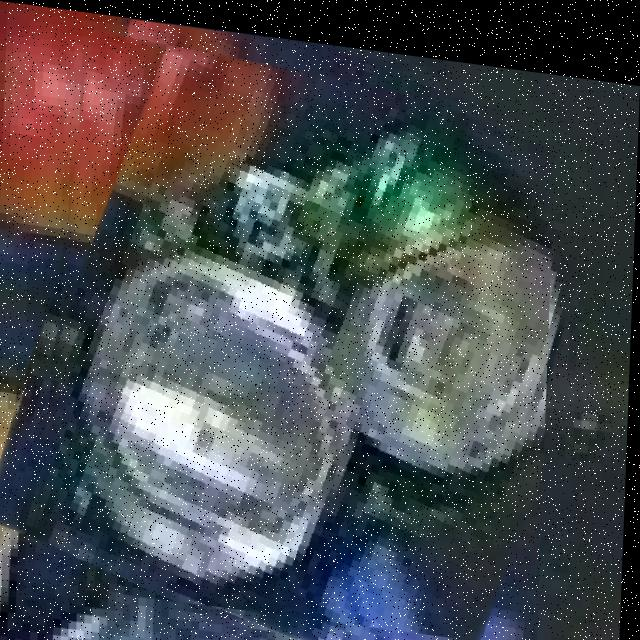litter: (53, 78, 555, 600)
